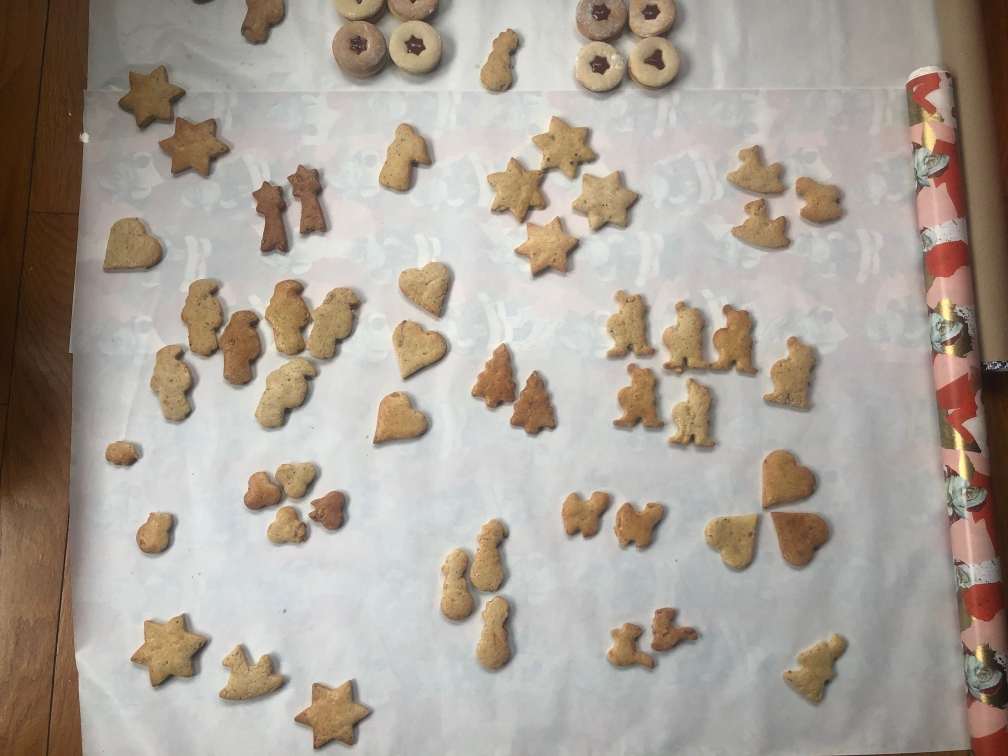angel: (374, 119, 437, 202)
christmas shortbread with jam: (389, 22, 448, 81), (570, 39, 624, 97), (627, 40, 684, 94), (333, 24, 385, 83), (574, 1, 624, 38), (631, 1, 679, 36), (332, 1, 389, 25), (396, 1, 442, 18)
christmas tree: (470, 342, 526, 412), (511, 372, 557, 441)
flake: (240, 466, 291, 517), (264, 499, 311, 546), (313, 484, 358, 531), (279, 460, 321, 494)
heart: (369, 392, 430, 458), (767, 511, 833, 572), (704, 507, 762, 573), (100, 221, 166, 277), (759, 447, 819, 508)
king mage: (784, 628, 857, 712)
lamb: (722, 139, 795, 205), (220, 642, 287, 712), (734, 192, 793, 252), (555, 489, 610, 544), (795, 175, 850, 230), (617, 497, 668, 551)
santa claus: (140, 345, 205, 426), (598, 289, 661, 365), (760, 336, 822, 413), (257, 355, 318, 433), (305, 284, 364, 363), (609, 366, 672, 434), (704, 299, 758, 378), (216, 309, 269, 388), (671, 372, 721, 455), (182, 280, 229, 360), (663, 300, 713, 375), (267, 281, 316, 355)
shooting star: (289, 158, 337, 251), (247, 180, 297, 259)
snowball: (105, 433, 143, 473)
snowman: (477, 31, 532, 97), (475, 599, 521, 675), (468, 520, 511, 601), (439, 547, 482, 626)
squirrel: (648, 608, 708, 660), (605, 618, 655, 670)
star: (289, 681, 379, 754), (132, 611, 210, 688), (153, 113, 235, 184), (529, 115, 600, 185), (575, 160, 641, 234), (482, 152, 548, 223), (514, 214, 580, 284), (119, 66, 185, 134)
